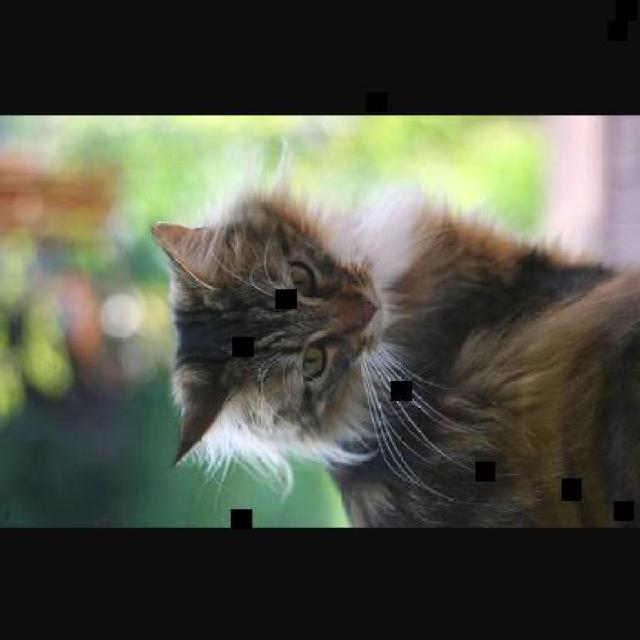unauthorized: (147, 169, 638, 528)
